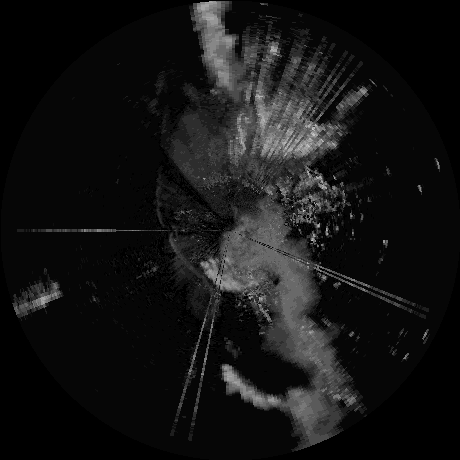frontgust: (168, 239, 212, 291), (153, 177, 170, 228)
